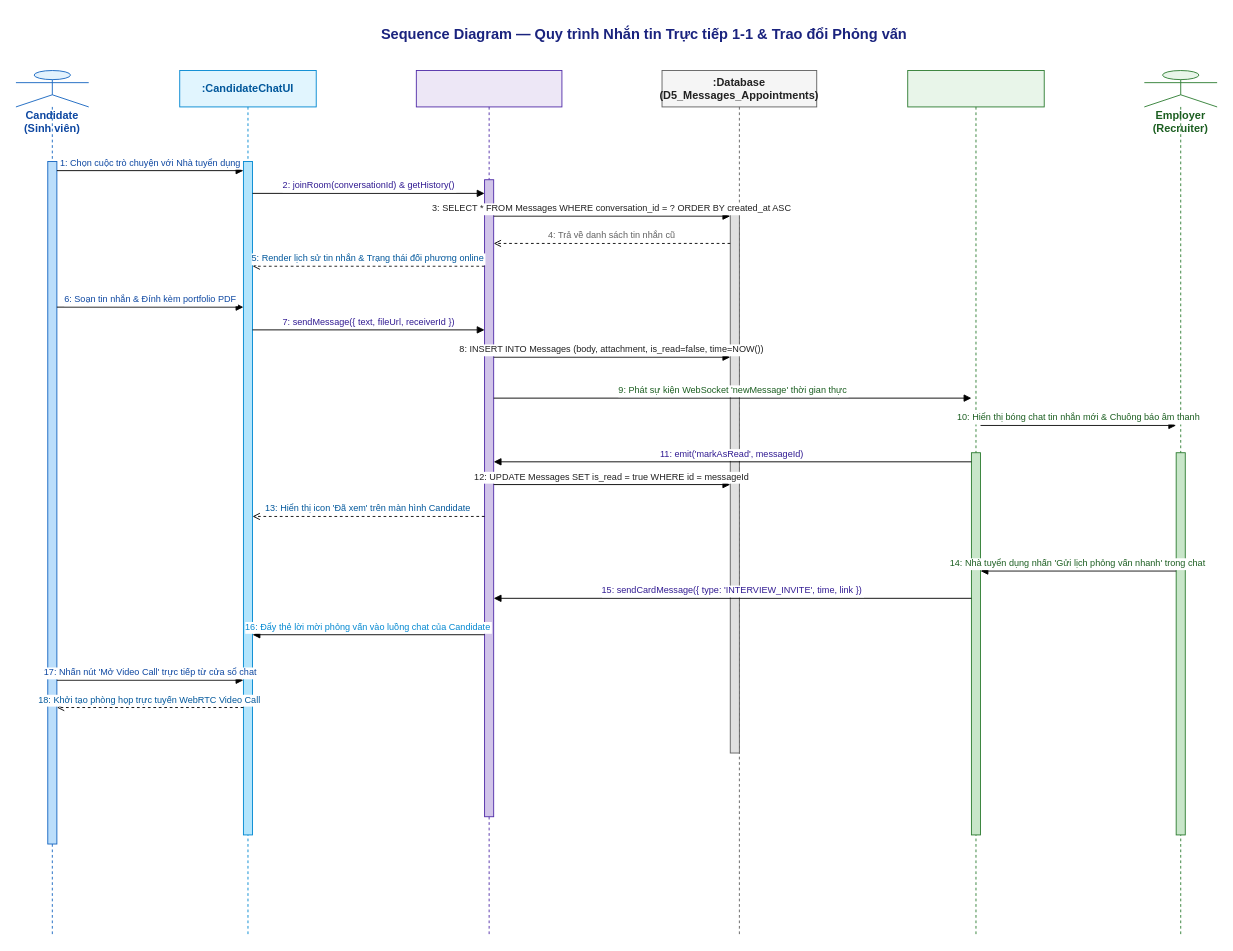
The diagram is 1233 pixels wide and 951 high, and some of its shapes have lost their labels. Here are the shapes that lost their labels. From the top down, the box of each, then its label:
(415, 70, 562, 935): :ChatGateway & WebSocketService
(907, 70, 1044, 935): :EmployerChatUI
